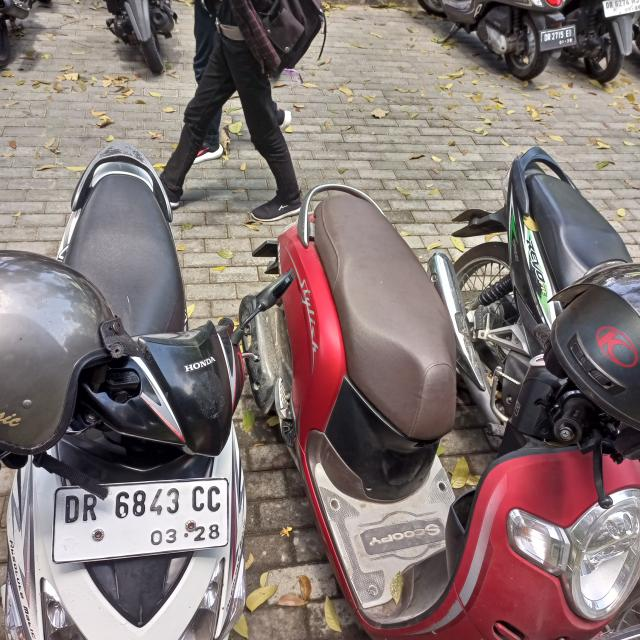plate: (50, 481, 225, 558), (540, 25, 577, 52)
